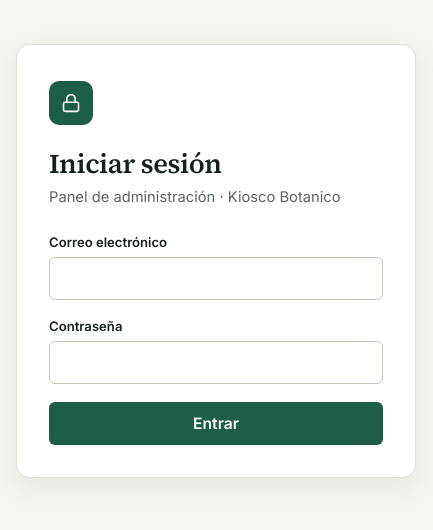
Test: LoginScreen › con credenciales malas muestra el error y no guarda nada
The image size is (433, 530).
Type "admin@test" into the field labelled "Correo electrónico" at (216, 278), box [49, 257, 383, 300]
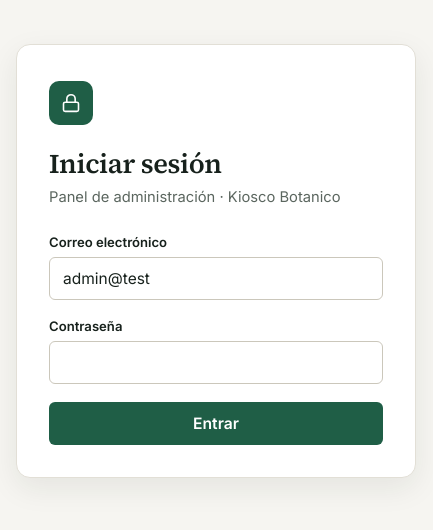
Type "mala" into the password field labelled "Contraseña" at (216, 362), box [49, 341, 383, 384]
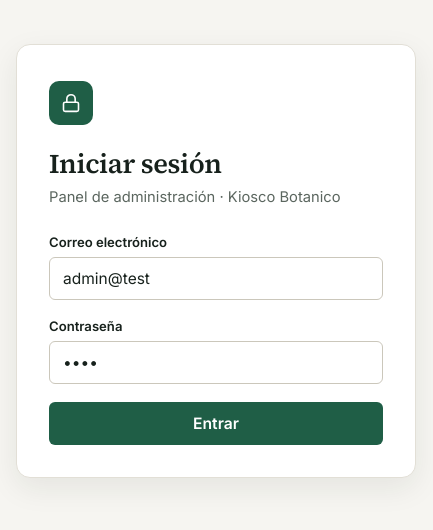
Click the button "Entrar" at (216, 424), box [49, 402, 383, 445]
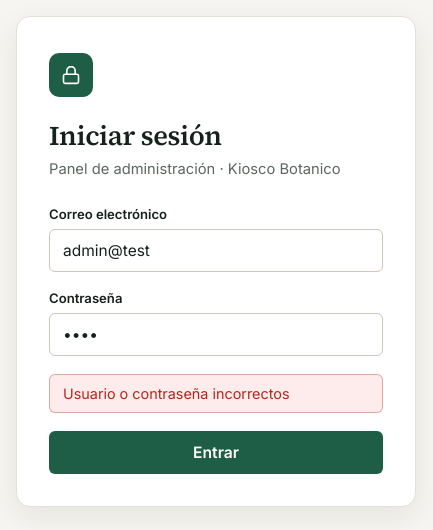
Check: the text "Usuario o contraseña incorrectos" is shown, box [49, 374, 383, 412]
